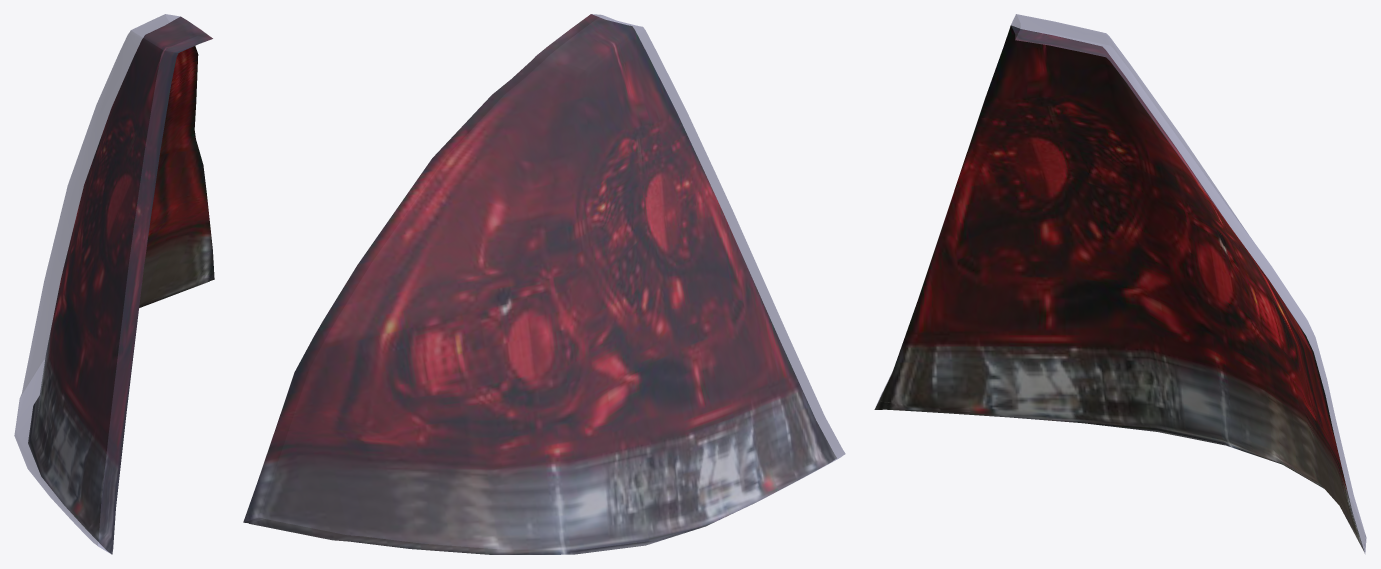
The picture shows the model from 3 angles, left to right: view 1: azimuth 30°, elevation 25°; view 2: azimuth 150°, elevation 25°; view 3: azimuth 270°, elevation 25°; orthographic projection. The views are drawn at different scales.
Parts seen in each view (by area): view 1: U417_541C_L_U417_541C_L_2_N, U417_541C_L_1_DTaSI_U417_541C_L; view 2: U417_541C_L_1_DTaSI_U417_541C_L, U417_541C_L_U417_541C_L_2_N; view 3: U417_541C_L_U417_541C_L_2_N, U417_541C_L_1_DTaSI_U417_541C_L.
Part boxes in pixels (bbox=[...]): U417_541C_L_U417_541C_L_2_N: bbox=[28, 16, 214, 554]; U417_541C_L_1_DTaSI_U417_541C_L: bbox=[14, 14, 212, 554]; U417_541C_L_1_DTaSI_U417_541C_L: bbox=[243, 14, 845, 554]; U417_541C_L_U417_541C_L_2_N: bbox=[243, 14, 836, 554]; U417_541C_L_U417_541C_L_2_N: bbox=[874, 25, 1364, 551]; U417_541C_L_1_DTaSI_U417_541C_L: bbox=[876, 14, 1366, 553].
Bounding box in the file's own units: 28.12 × 33.78 × 32.67.
